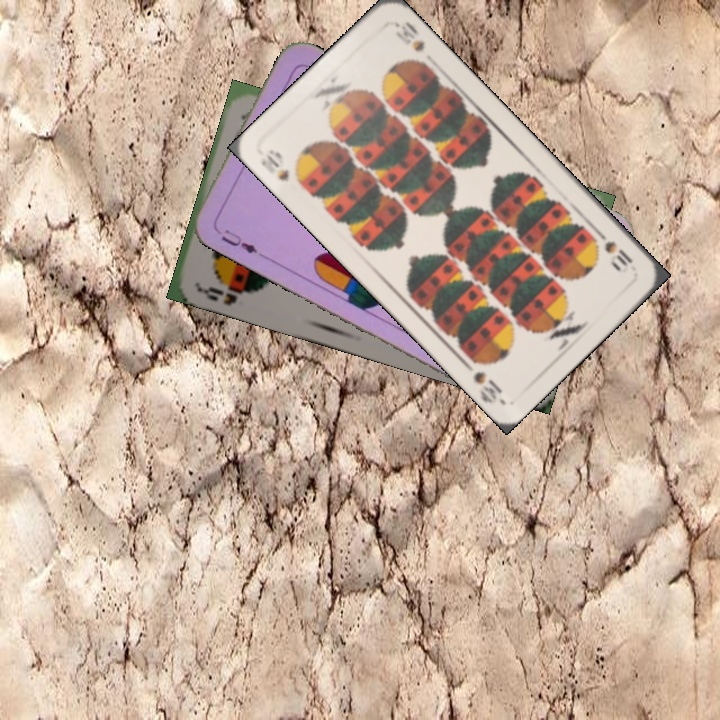EU: (217, 225, 265, 259)
S10: (256, 145, 307, 190), (593, 227, 636, 273)
SO: (194, 277, 256, 308)
